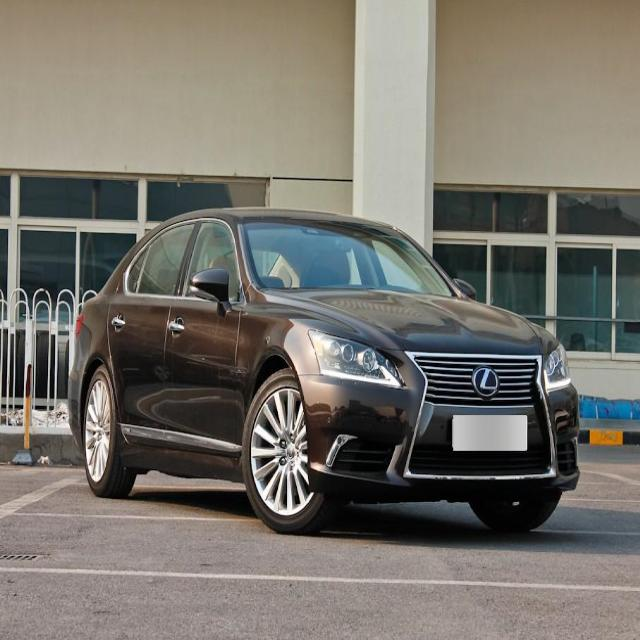door: (111, 218, 197, 467)
front_bumper: (297, 367, 581, 500)
front_glass: (238, 212, 455, 298)
front_left_side_light: (540, 339, 572, 392)
front_left_side_mirror: (454, 275, 478, 302)
front_right_side_door: (158, 212, 244, 484)
front_right_side_light: (304, 324, 406, 392)
front_right_side_mirror: (189, 263, 233, 310)
wheel: (241, 367, 328, 533), (82, 367, 134, 500)
